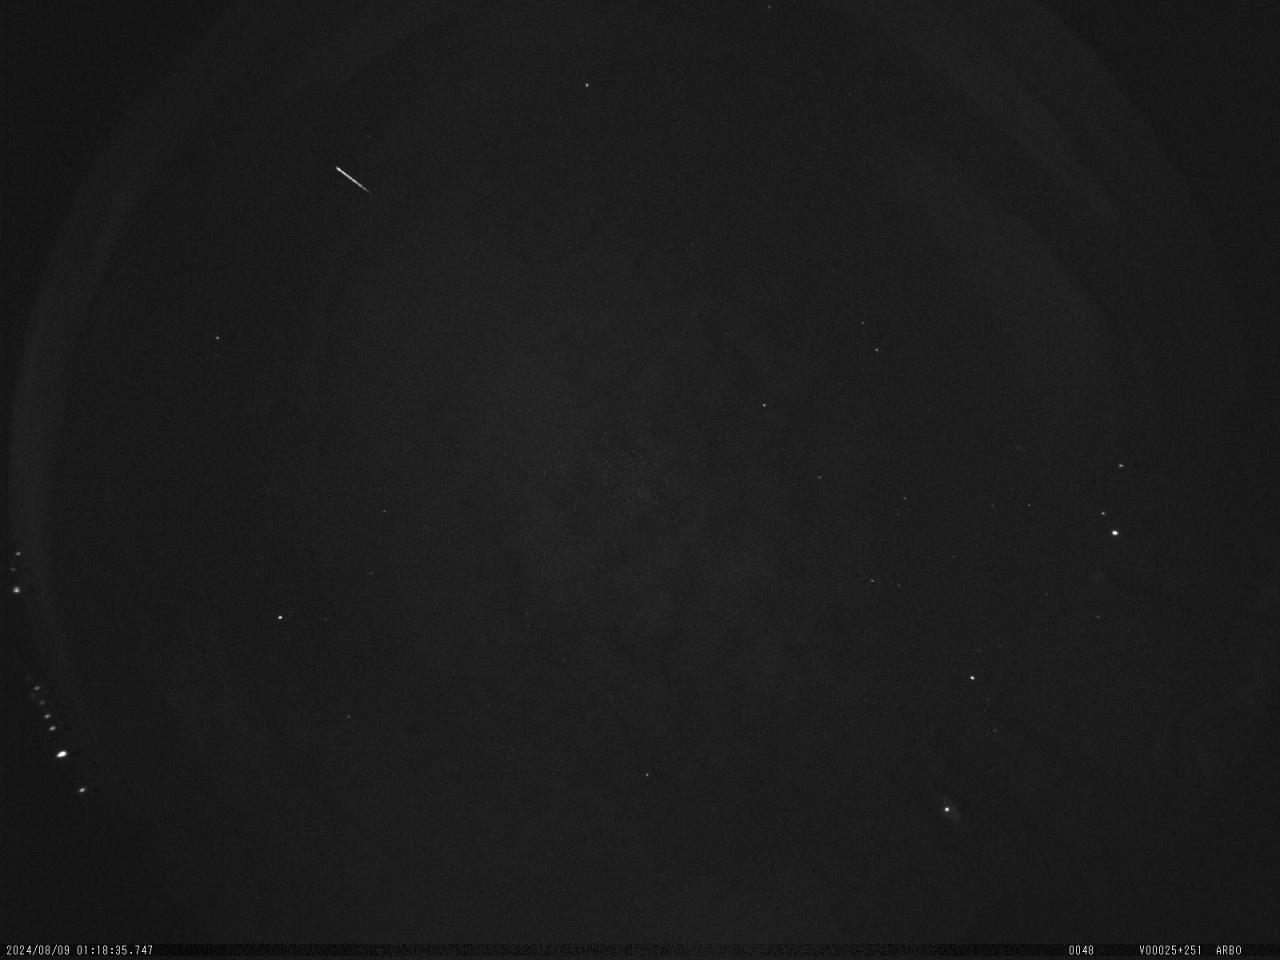Meteor: (333, 164, 372, 196)
